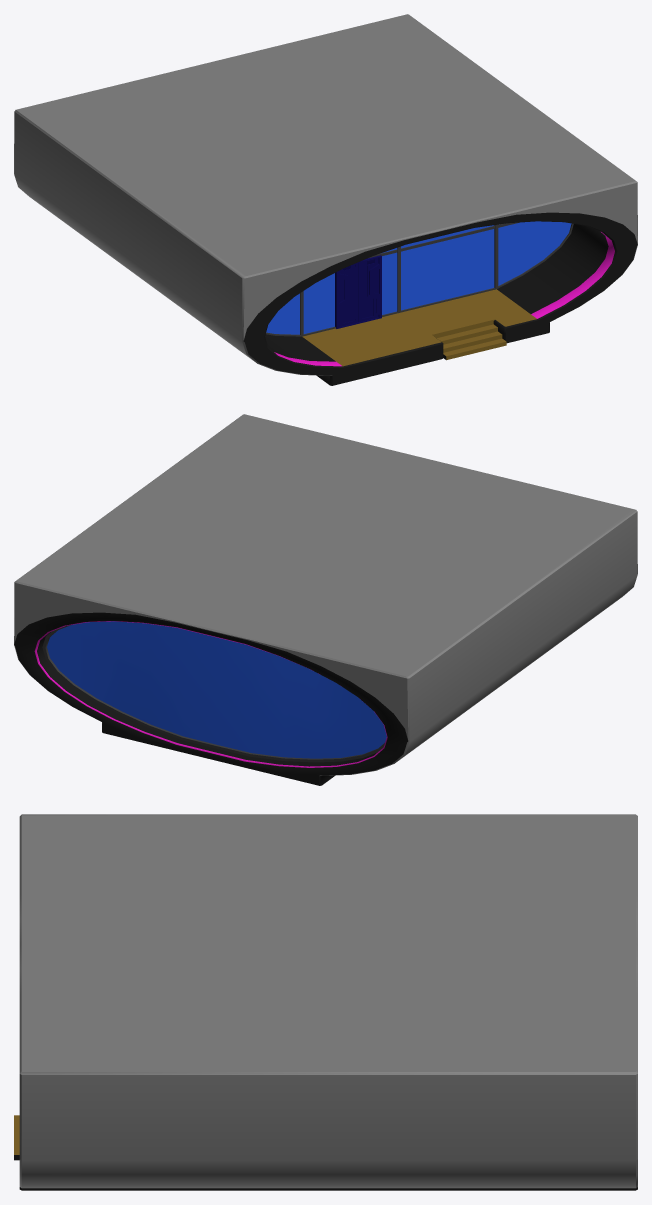
Rendered from SM_Building_Base_MK7.fbx.
3 renders of one model, top to bottom at view 1: azimuth 30°, elevation 25°; view 2: azimuth 150°, elevation 25°; view 3: azimuth 270°, elevation 25°, orthographic. The views are drawn at different scales.
Visible parts, largest first — view 1: SM_Building_Base_MK7; view 2: SM_Building_Base_MK7; view 3: SM_Building_Base_MK7.
Boxes of the visible parts, x1,y1,x2,y2 form: SM_Building_Base_MK7: (14,14,637,385); SM_Building_Base_MK7: (14,414,637,785); SM_Building_Base_MK7: (14,814,637,1190).
Bounding box in the file's own units: 1590 × 500 × 1615.
